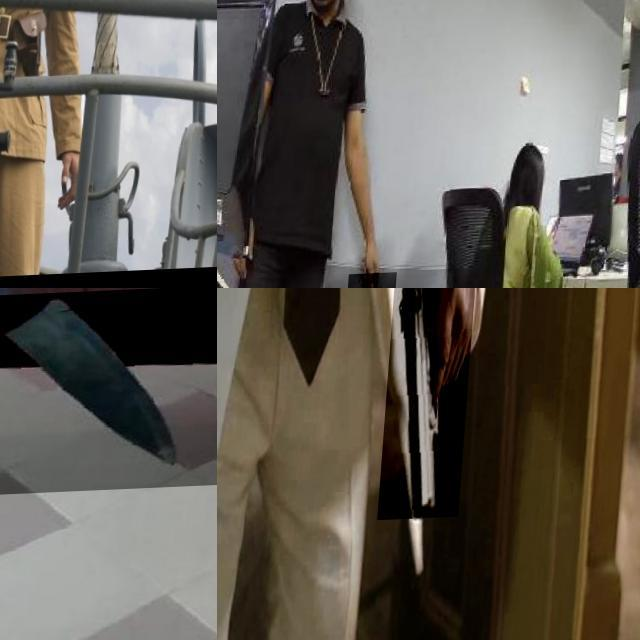-: (0, 288, 217, 497)
gun-knife-thesis - v11 Yolov5 augmented: (383, 288, 482, 523), (0, 0, 20, 34)
